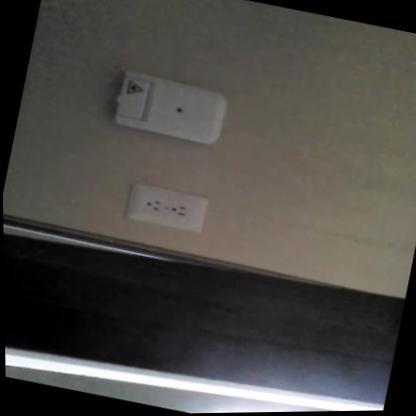OUTLET: (123, 179, 209, 234)
